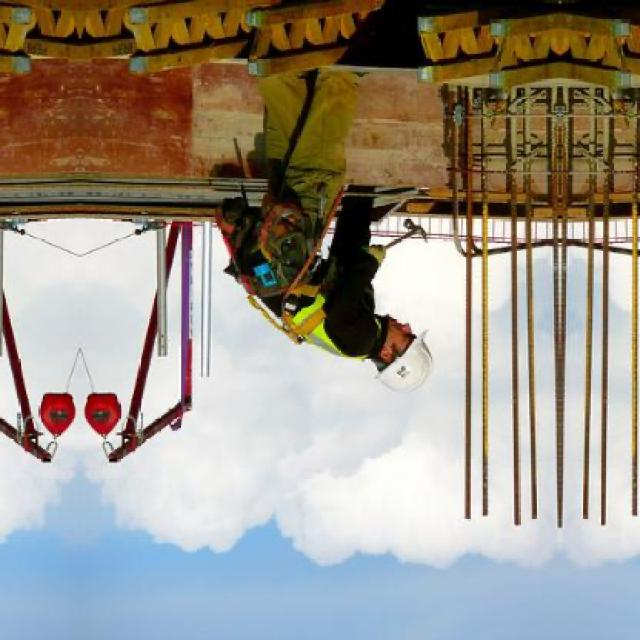con casco: (362, 283, 443, 424)
